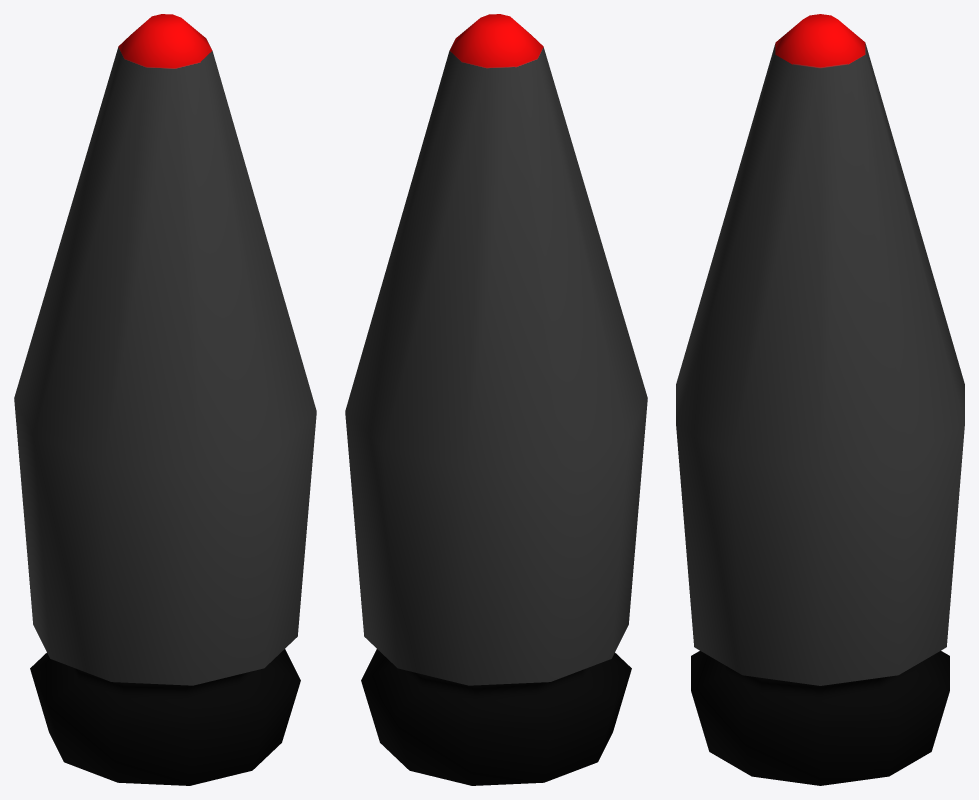
The model's file is shell.fbx.
3 renders of one model, left to right at view 1: azimuth 30°, elevation 25°; view 2: azimuth 150°, elevation 25°; view 3: azimuth 270°, elevation 25°, orthographic.
Parts seen in each view (by area): view 1: pPipe25; view 2: pPipe25; view 3: pPipe25.
Boxes of the visible parts, x1,y1,x2,y2 form: pPipe25: [14, 14, 316, 785]; pPipe25: [345, 14, 647, 785]; pPipe25: [676, 14, 964, 785].
Bounding box in the file's own units: 0.0558 × 0.1447 × 0.053.
